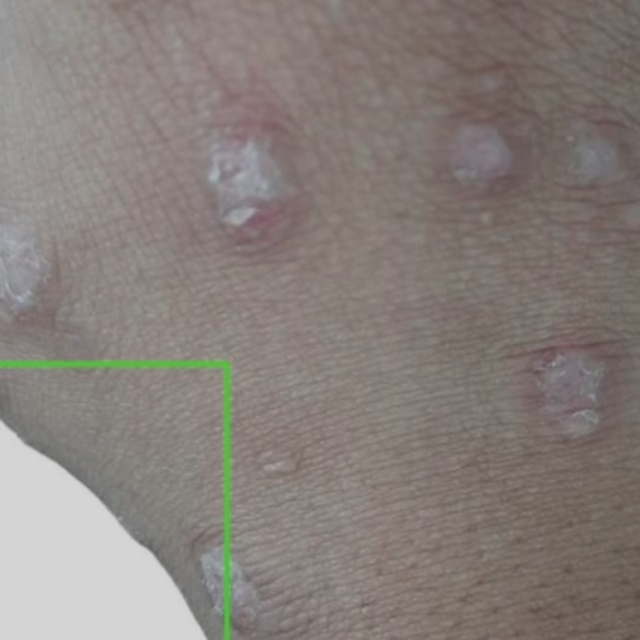Contact Dermatitis: (0, 364, 227, 639)
